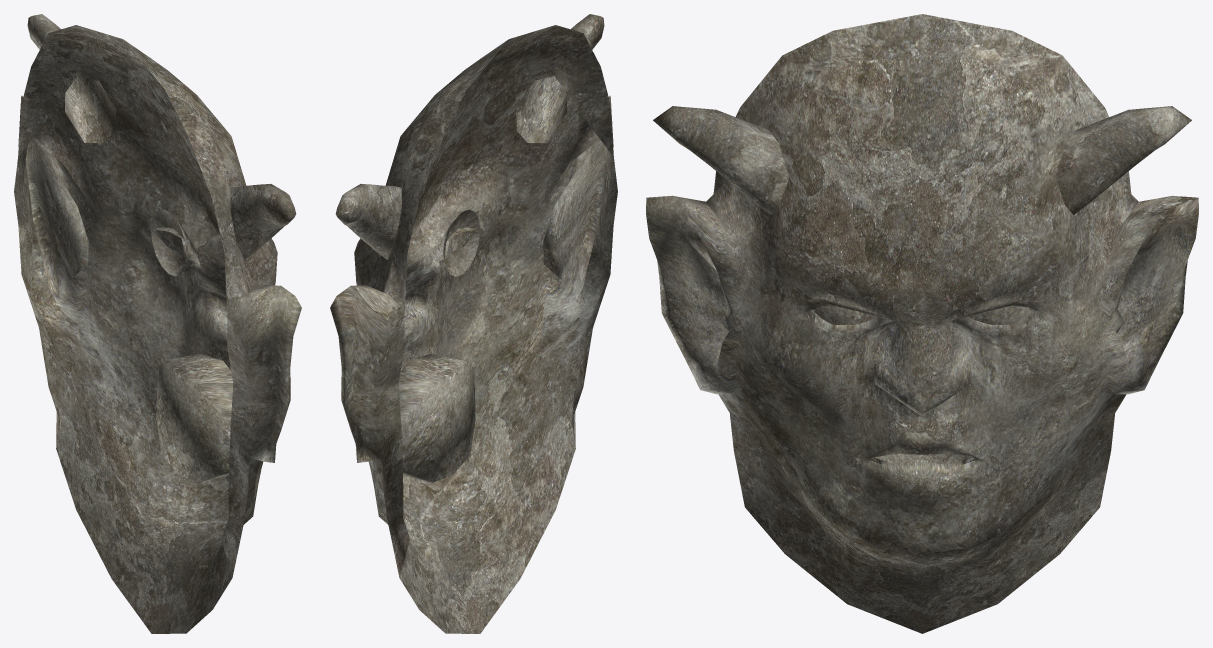
The model's file is BigFace_Wall.FBX.
The picture shows the model from 3 angles, left to right: view 1: azimuth 30°, elevation 25°; view 2: azimuth 150°, elevation 25°; view 3: azimuth 270°, elevation 25°; orthographic projection.
Parts seen in each view (by area): view 1: BigFace_Wall; view 2: BigFace_Wall; view 3: BigFace_Wall.
Boxes of the visible parts, <box> form: BigFace_Wall: <box>14,14,301,633</box>; BigFace_Wall: <box>330,14,617,633</box>; BigFace_Wall: <box>646,14,1198,633</box>.
Bounding box in the file's own units: 47.68 × 192 × 159.
